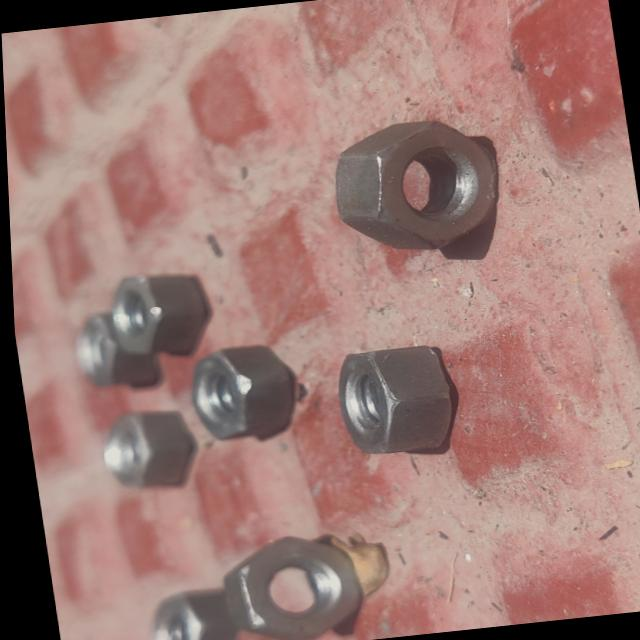disinfected nut: (332, 119, 495, 249), (217, 534, 356, 640), (333, 344, 448, 453), (186, 343, 292, 438), (108, 273, 206, 354), (98, 410, 188, 487), (71, 311, 155, 387), (145, 587, 230, 640)
